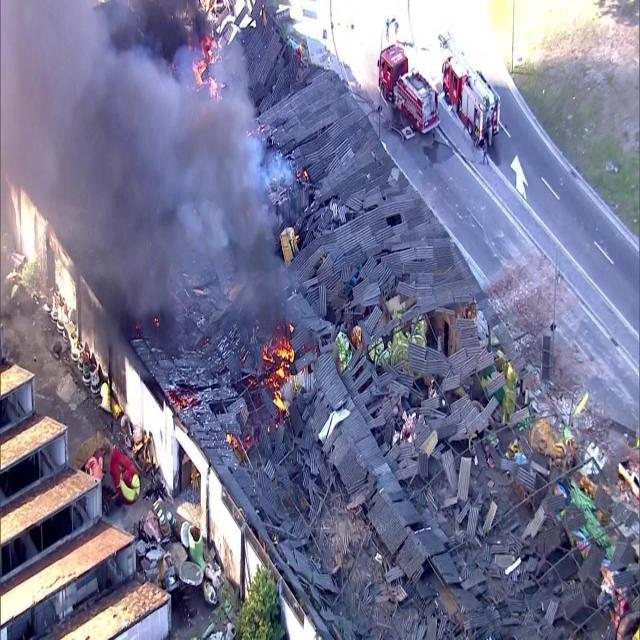Fire: (260, 332, 296, 415), (192, 31, 222, 102), (168, 390, 198, 412), (224, 428, 238, 448)
